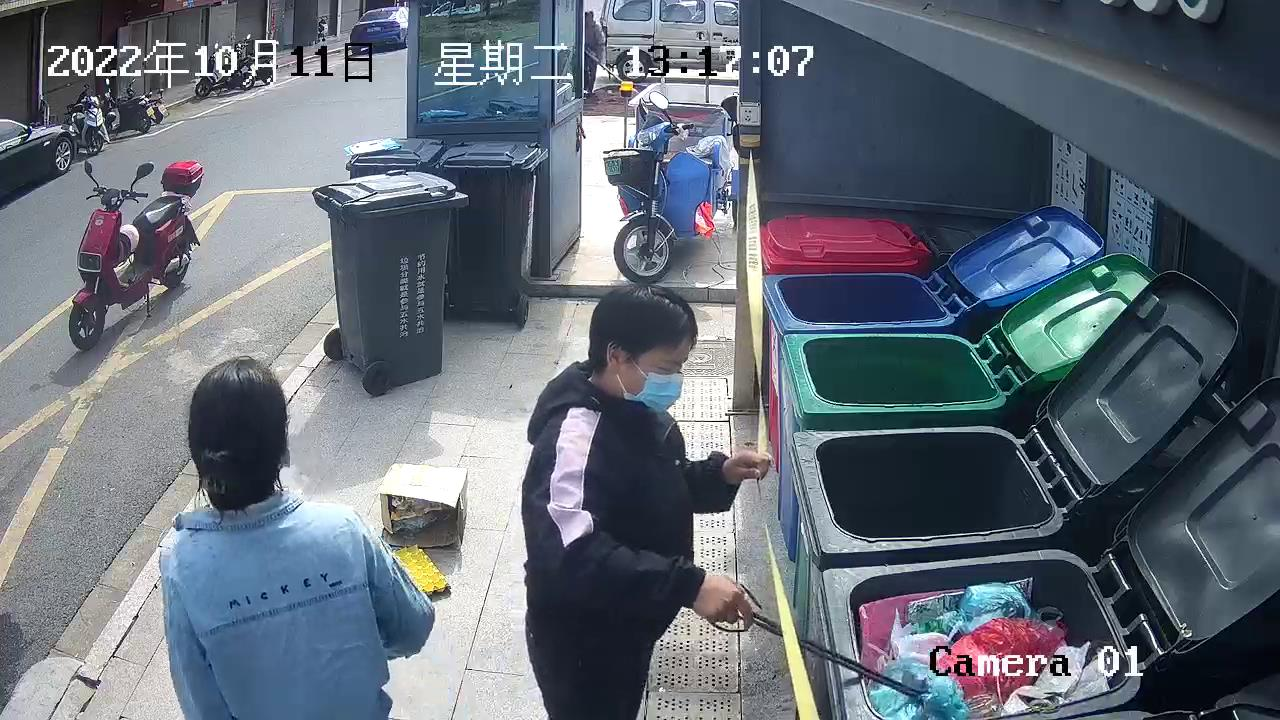person: (519, 281, 776, 720)
worker: (161, 353, 436, 720)
zhizhipin: (377, 460, 470, 551), (392, 543, 452, 598)
